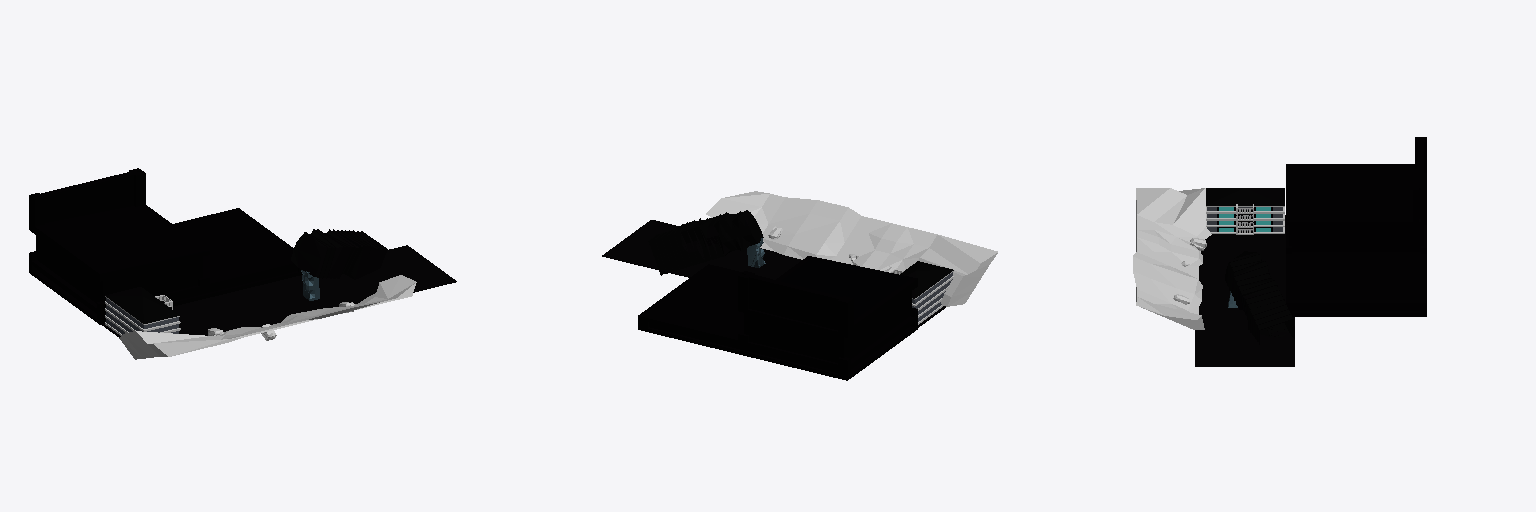
3 views of the same model, side by side, from view 1: azimuth 30°, elevation 25°; view 2: azimuth 150°, elevation 25°; view 3: azimuth 270°, elevation 25° (orthographic).
Parts seen in each view (by area): view 1: building_009_building_009_mesh, Cube, 立方体.002_立方体.004, building_005_building_005_mesh, building_007_building_007_mesh; view 2: building_009_building_009_mesh, 立方体.002_立方体.004, building_005_building_005_mesh, Cube, building_007_building_007_mesh; view 3: building_009_building_009_mesh, 立方体.002_立方体.004, Cube, building_005_building_005_mesh, building_007_building_007_mesh.
Boxes of the visible parts, x1=… form: building_009_building_009_mesh: x1=29, y1=168, x2=302, y2=324; Cube: x1=101, y1=245, x2=456, y2=337; 立方体.002_立方体.004: x1=119, y1=275, x2=416, y2=359; building_005_building_005_mesh: x1=291, y1=229, x2=387, y2=279; building_007_building_007_mesh: x1=105, y1=287, x2=180, y2=335; building_009_building_009_mesh: x1=638, y1=256, x2=917, y2=380; 立方体.002_立方体.004: x1=706, y1=191, x2=997, y2=306; building_005_building_005_mesh: x1=648, y1=210, x2=763, y2=275; Cube: x1=602, y1=220, x2=945, y2=327; building_007_building_007_mesh: x1=890, y1=261, x2=953, y2=324; building_009_building_009_mesh: x1=1286, y1=137, x2=1426, y2=316; 立方体.002_立方体.004: x1=1133, y1=188, x2=1211, y2=329; Cube: x1=1195, y1=215, x2=1294, y2=366; building_005_building_005_mesh: x1=1225, y1=251, x2=1294, y2=344; building_007_building_007_mesh: x1=1206, y1=188, x2=1284, y2=235.
Size of the model in its own units: 74.17 by 19.86 by 59.57.
7 materials, 1 textured.